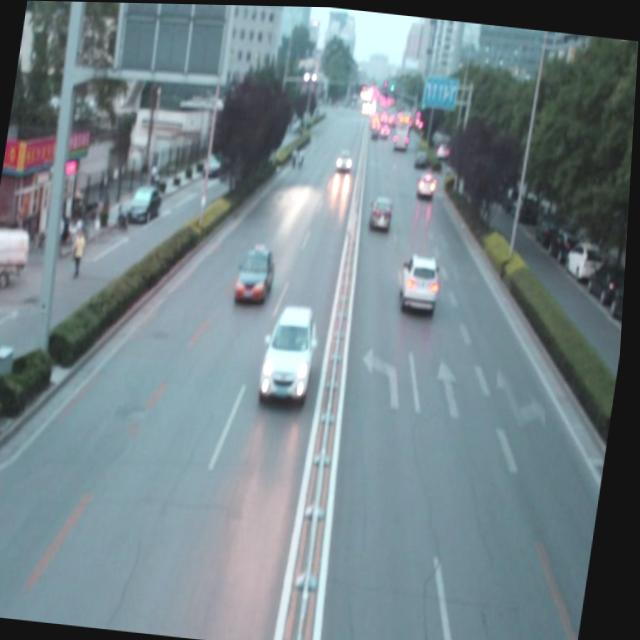car: (259, 299, 325, 404), (398, 247, 445, 315), (236, 241, 279, 303), (371, 192, 395, 230)
